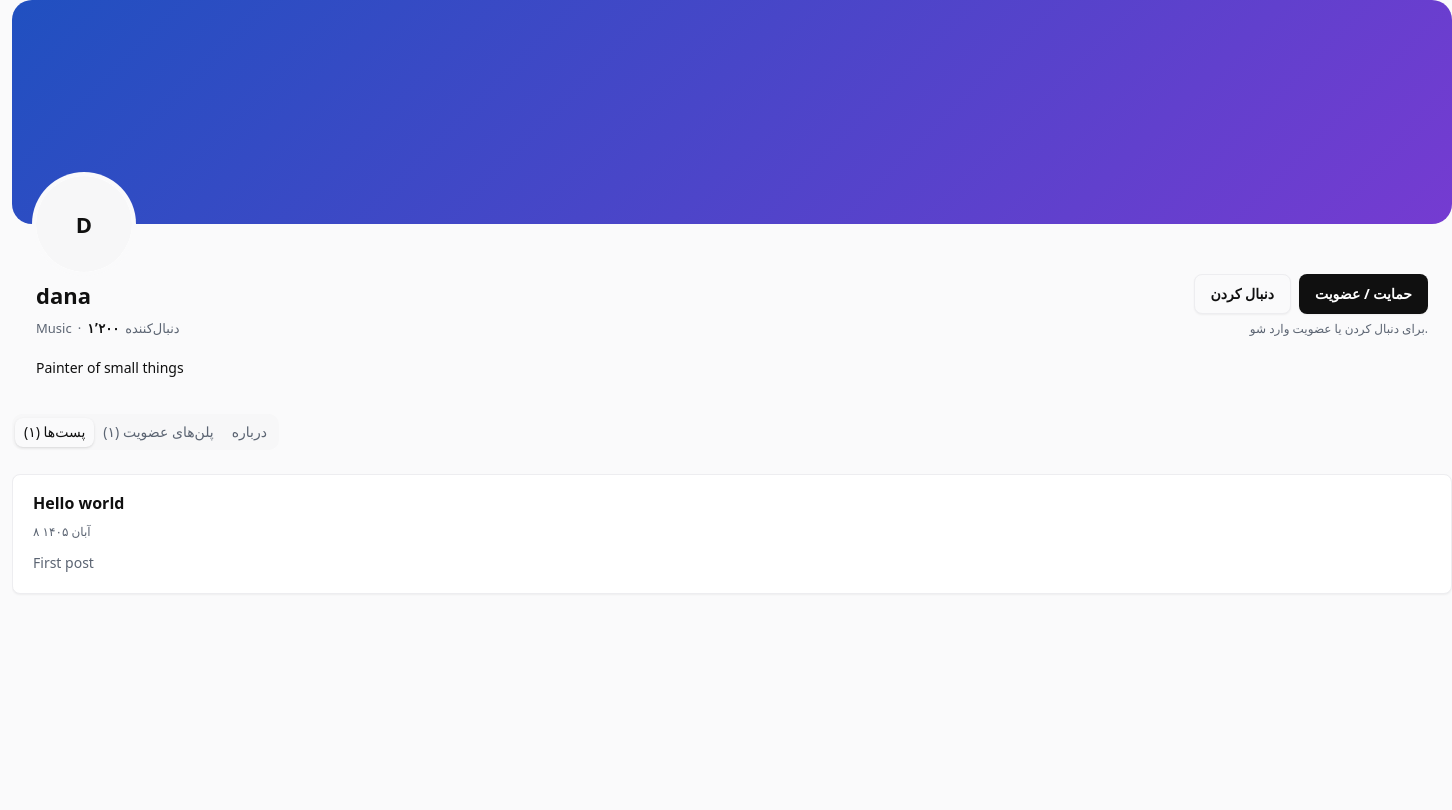
Test: CreatorPageView (FE-PAGE-01) › uses Persian digits and the Persian unit in fa
Click the tab "پلن‌های عضویت (۱)": (159, 432) [94,418,223,446]
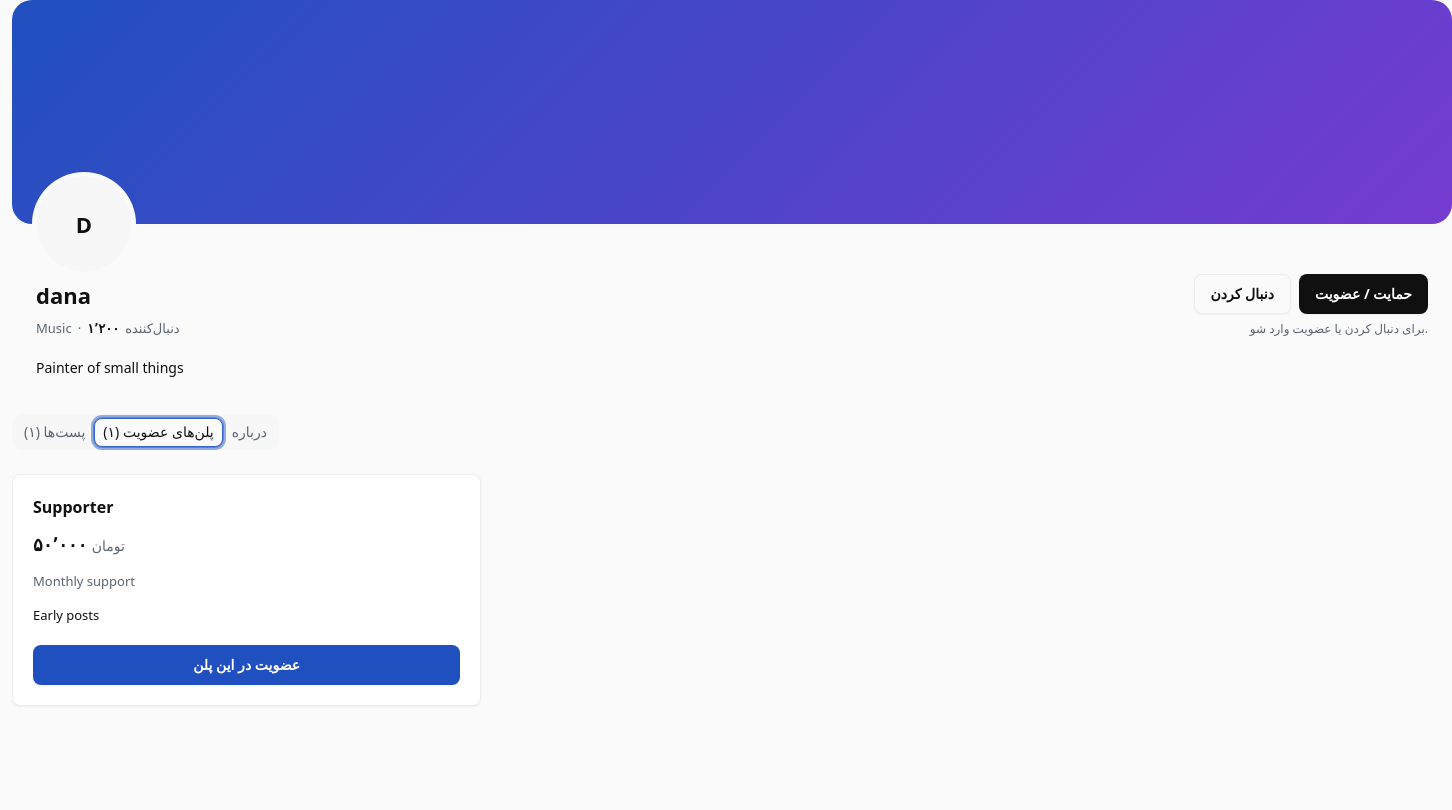
Expected: the text "۵۰٬۰۰۰" reads "۵۰٬۰۰۰ تومان", [33,532,125,556]
